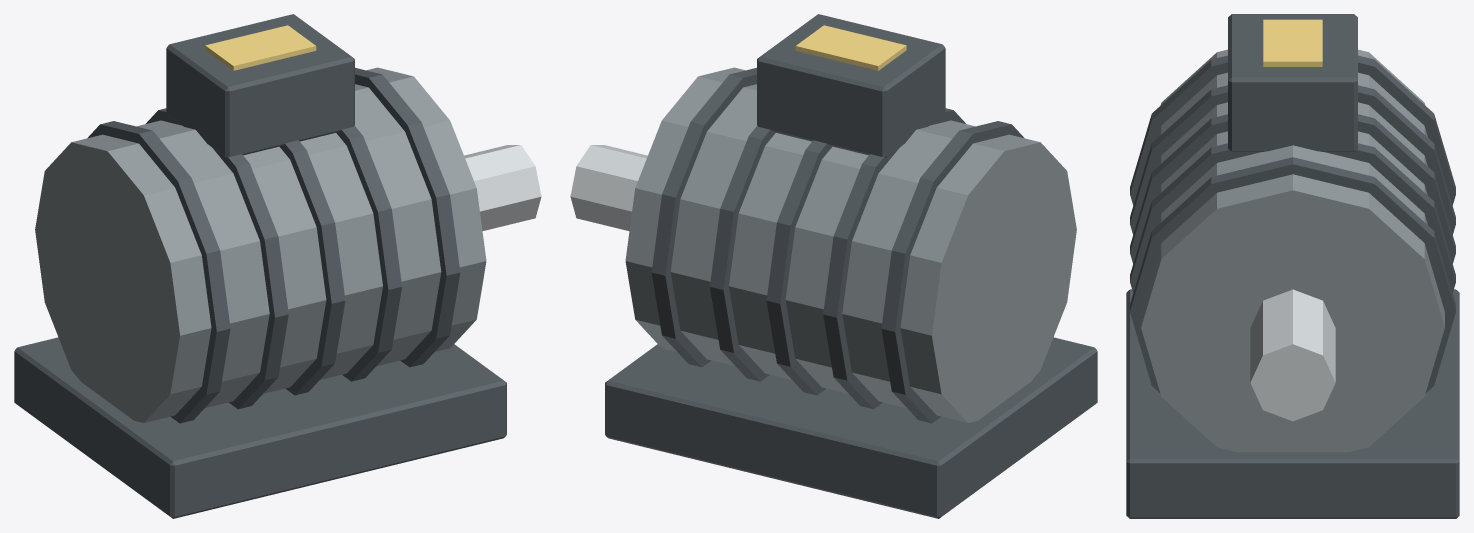
The model's file is motor.glb.
3 views of the same model, side by side, from view 1: azimuth 30°, elevation 25°; view 2: azimuth 150°, elevation 25°; view 3: azimuth 270°, elevation 25° (orthographic). The views are drawn at different scales.
Parts seen in each view (by area): view 1: motor / Graphite enamel, motor / Machined steel, motor / Silver, motor / Gold markings and contacts; view 2: motor / Graphite enamel, motor / Machined steel, motor / Silver, motor / Gold markings and contacts; view 3: motor / Graphite enamel, motor / Machined steel, motor / Silver, motor / Gold markings and contacts.
Part boxes in pixels (<box>): motor / Graphite enamel: <box>14,14,506,518</box>; motor / Machined steel: <box>35,67,486,422</box>; motor / Silver: <box>464,145,541,230</box>; motor / Gold markings and contacts: <box>205,25,316,70</box>; motor / Graphite enamel: <box>605,14,1097,518</box>; motor / Machined steel: <box>625,67,1076,422</box>; motor / Silver: <box>570,145,647,230</box>; motor / Gold markings and contacts: <box>795,25,906,70</box>; motor / Graphite enamel: <box>1126,14,1459,518</box>; motor / Machined steel: <box>1141,49,1444,452</box>; motor / Silver: <box>1250,289,1335,421</box>; motor / Gold markings and contacts: <box>1263,19,1322,66</box>.
Size of the model in its own units: 0.28 by 0.2345 by 0.18.
